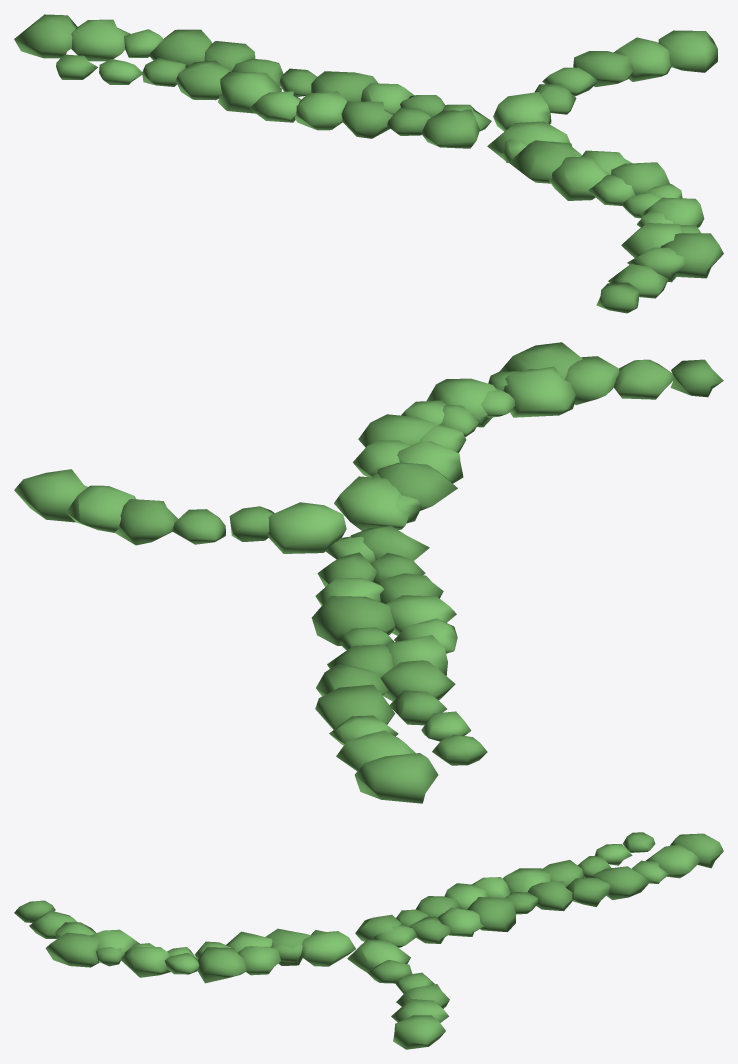
File: creeper_1.glb
3 views of the same model, one above another, from view 1: azimuth 30°, elevation 25°; view 2: azimuth 150°, elevation 25°; view 3: azimuth 270°, elevation 25° (orthographic). The views are drawn at different scales.
Parts seen in each view (by area): view 1: creeper; view 2: creeper; view 3: creeper.
Part boxes in pixels (x1,y1,x2,y2): creeper: (14, 14, 723, 313); creeper: (14, 342, 723, 803); creeper: (14, 832, 723, 1049).
Bounding box in the file's own units: 1.45 × 0.0887 × 2.09.
